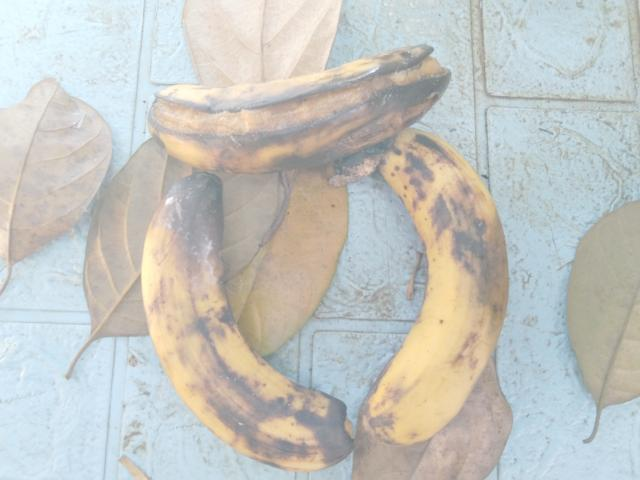overripe: (350, 142, 555, 472)
rotten: (117, 171, 346, 478), (125, 38, 464, 175)
